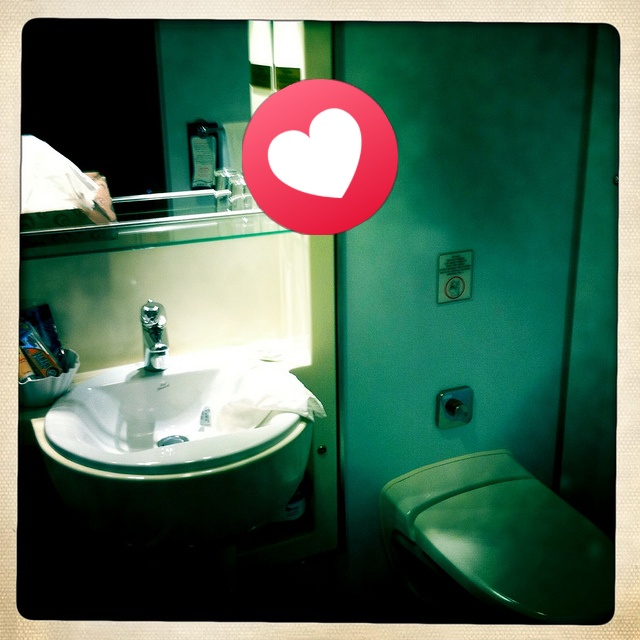love: (242, 79, 398, 235)
